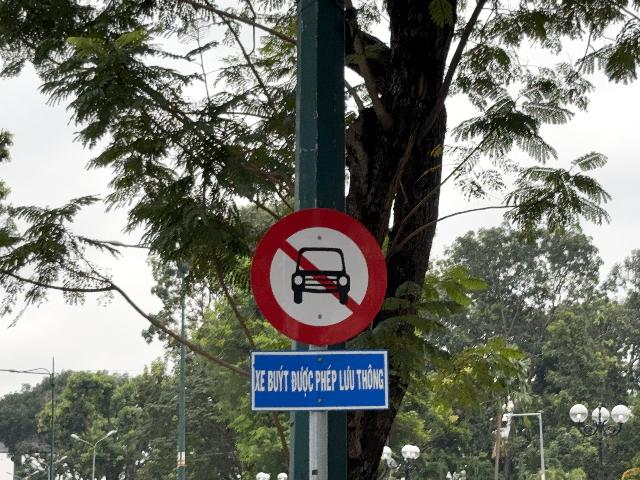cam-o-to: (251, 208, 387, 345)
